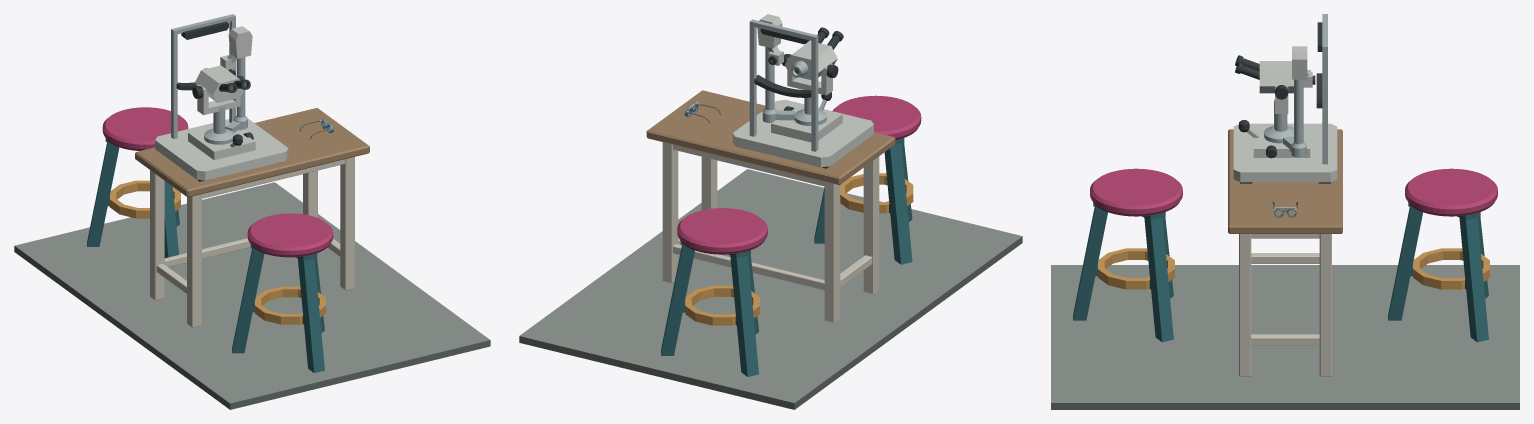
3 renders of one model, left to right at view 1: azimuth 30°, elevation 25°; view 2: azimuth 150°, elevation 25°; view 3: azimuth 270°, elevation 25°, orthographic. The views are drawn at different scales.
Visible parts, largest first — view 1: SCENE_ONLY__DisplayFloor, table__Complete work surface, slitlamp__WholeCommonLowBase, front_stool__Cushion_ThickBevelledRound, rear_stool__Cushion_ThickBevelledRound, table__Worktable leg, front_stool__Leg_1_ContinuousSplayAndRingLug, table__Worktable leg.002, table__Worktable leg.001, front_stool__Leg_3_ContinuousSplayAndRingLug, rear_stool__Leg_3_ContinuousSplayAndRingLug, slitlamp__WholeIndependentChinForeheadFrame (+13 smaller); view 2: SCENE_ONLY__DisplayFloor, table__Complete work surface, slitlamp__WholeCommonLowBase, rear_stool__Cushion_ThickBevelledRound, front_stool__Cushion_ThickBevelledRound, table__Worktable leg.001, slitlamp__WholeIndependentChinForeheadFrame, table__Worktable leg.003, rear_stool__Leg_3_ContinuousSplayAndRingLug, front_stool__Leg_3_ContinuousSplayAndRingLug, table__Worktable leg, rear_stool__Leg_2_ContinuousSplayAndRingLug (+12 smaller); view 3: SCENE_ONLY__DisplayFloor, table__Complete work surface, slitlamp__WholeCommonLowBase, rear_stool__Cushion_ThickBevelledRound, front_stool__Cushion_ThickBevelledRound, front_stool__Leg_2_ContinuousSplayAndRingLug, rear_stool__Leg_2_ContinuousSplayAndRingLug, table__Worktable leg.002, table__Worktable leg.003, rear_stool__Leg_1_ContinuousSplayAndRingLug, front_stool__Leg_1_ContinuousSplayAndRingLug, front_stool__Footrest_CompleteDodecagonalAnnulus (+9 smaller).
Part boxes in pixels (x1,y1,x2,y2): SCENE_ONLY__DisplayFloor: (14, 182, 490, 409); table__Complete work surface: (135, 108, 369, 197); slitlamp__WholeCommonLowBase: (155, 118, 288, 180); front_stool__Cushion_ThickBevelledRound: (247, 213, 333, 257); rear_stool__Cushion_ThickBevelledRound: (102, 107, 188, 150); table__Worktable leg: (187, 194, 201, 327); front_stool__Leg_1_ContinuousSplayAndRingLug: (298, 258, 324, 372); table__Worktable leg.002: (340, 157, 354, 290); table__Worktable leg.001: (150, 170, 164, 300); front_stool__Leg_3_ContinuousSplayAndRingLug: (232, 248, 264, 353); rear_stool__Leg_3_ContinuousSplayAndRingLug: (87, 142, 119, 246); slitlamp__WholeIndependentChinForeheadFrame: (171, 14, 235, 138); SCENE_ONLY__DisplayFloor: (519, 169, 1022, 409); table__Complete work surface: (646, 90, 895, 185); slitlamp__WholeCommonLowBase: (732, 99, 873, 167); rear_stool__Cushion_ThickBevelledRound: (677, 208, 767, 254); front_stool__Cushion_ThickBevelledRound: (832, 95, 921, 140); table__Worktable leg.001: (824, 182, 840, 322); slitlamp__WholeIndependentChinForeheadFrame: (749, 19, 818, 151); table__Worktable leg.003: (662, 142, 678, 283); rear_stool__Leg_3_ContinuousSplayAndRingLug: (730, 255, 758, 376); front_stool__Leg_3_ContinuousSplayAndRingLug: (884, 143, 912, 264); table__Worktable leg: (863, 156, 879, 294); rear_stool__Leg_2_ContinuousSplayAndRingLug: (661, 245, 694, 355); SCENE_ONLY__DisplayFloor: (1051, 265, 1519, 409); table__Complete work surface: (1228, 129, 1342, 233); slitlamp__WholeCommonLowBase: (1233, 123, 1337, 182); rear_stool__Cushion_ThickBevelledRound: (1405, 168, 1497, 216); front_stool__Cushion_ThickBevelledRound: (1090, 168, 1182, 216); front_stool__Leg_2_ContinuousSplayAndRingLug: (1144, 217, 1173, 342); rear_stool__Leg_2_ContinuousSplayAndRingLug: (1459, 217, 1488, 342); table__Worktable leg.002: (1239, 234, 1251, 376); table__Worktable leg.003: (1319, 234, 1331, 376); rear_stool__Leg_1_ContinuousSplayAndRingLug: (1388, 206, 1422, 320); front_stool__Leg_1_ContinuousSplayAndRingLug: (1073, 206, 1107, 320); front_stool__Footrest_CompleteDodecagonalAnnulus: (1098, 248, 1174, 289).
Size of the model in its own units: 1.7 by 1.69 by 2.44.
